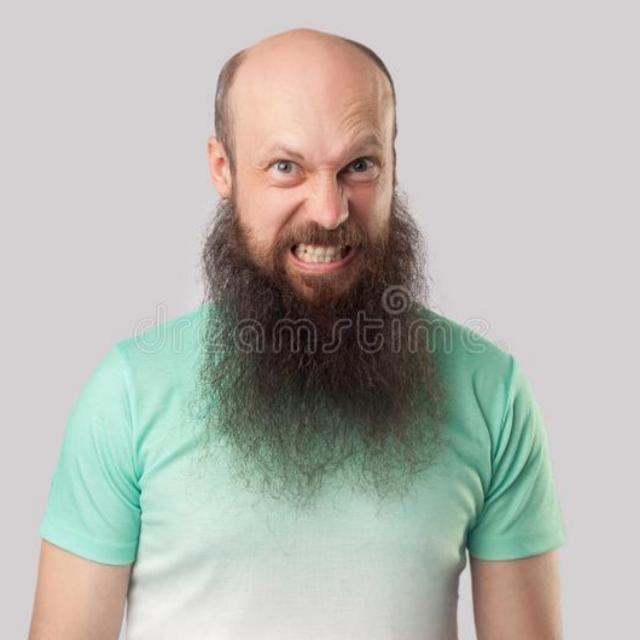Angry: (204, 53, 515, 445)
